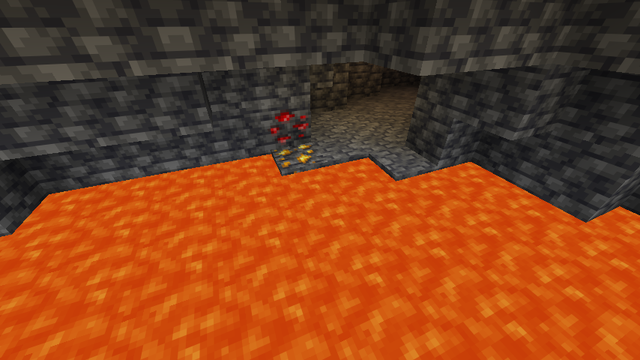gold: (272, 143, 321, 177)
redstone: (267, 108, 313, 146)
